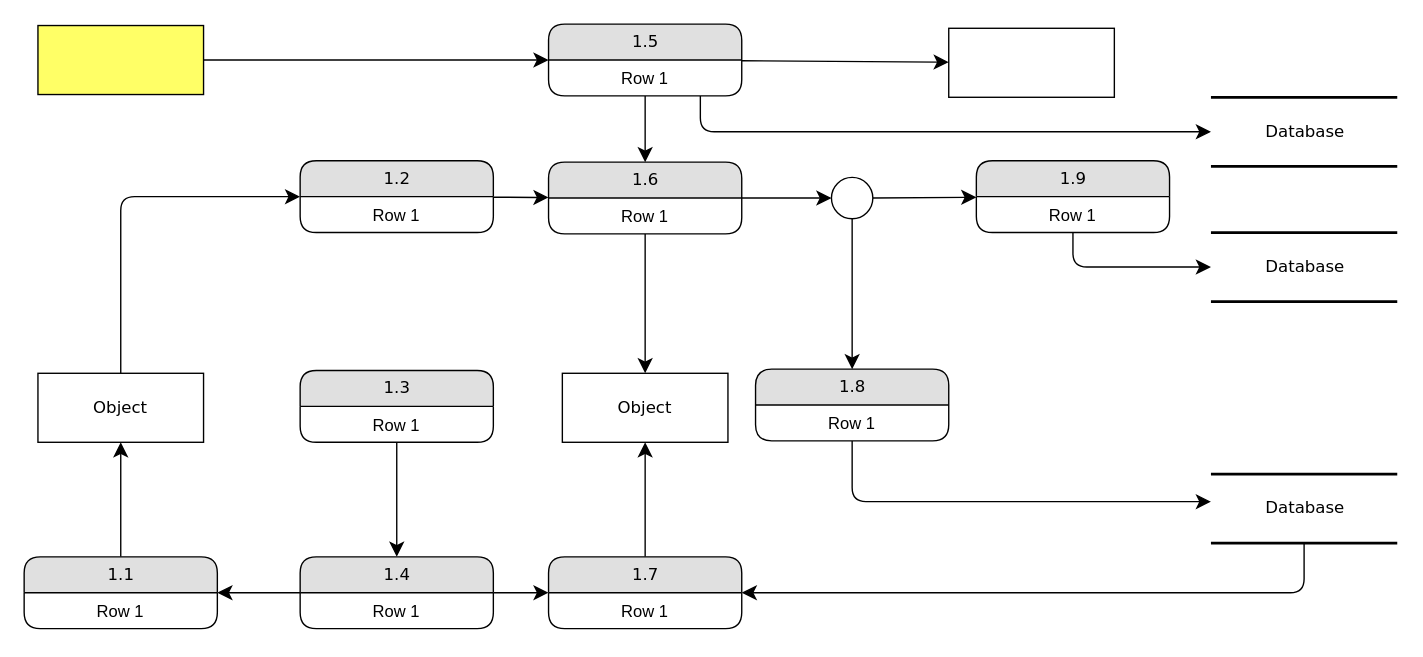
This 1423x657 diagram has some shape labels left out. Each missing label, with the centre of its shape:
"Output" belongs at (x=1030, y=62).
"Test" belongs at (x=120, y=59).
